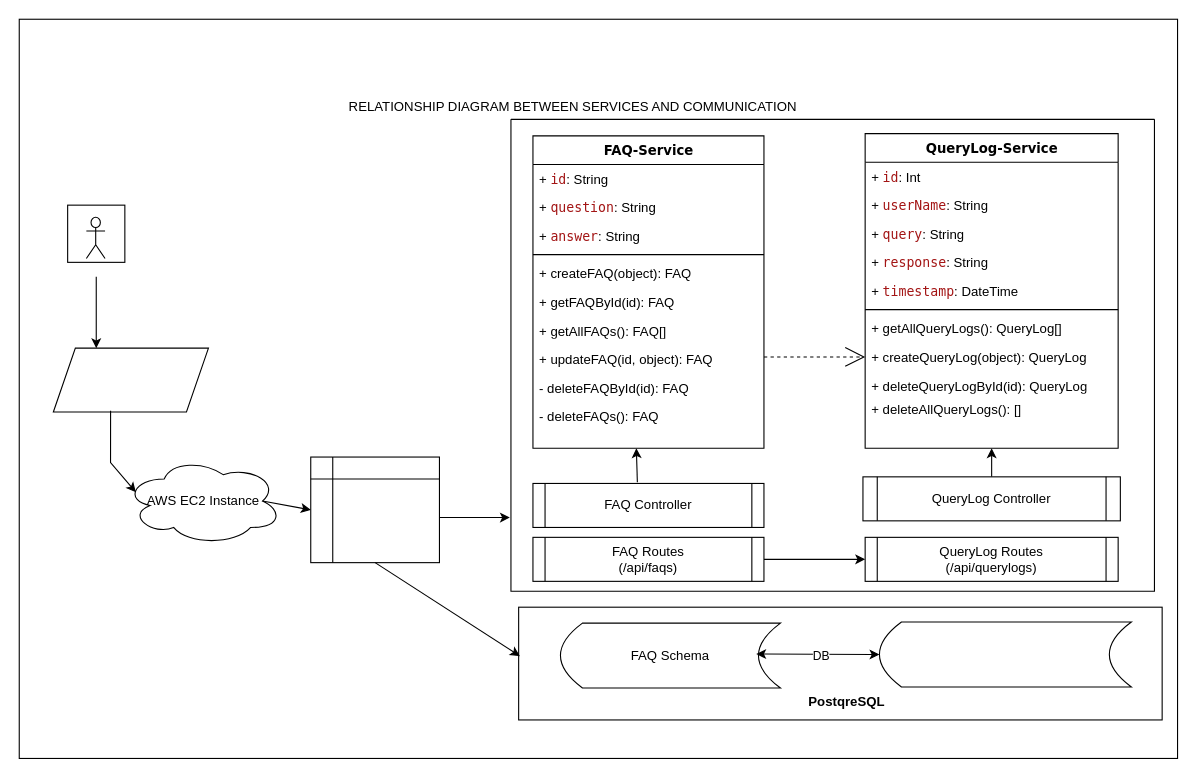
This 1197x778 diagram has some shape labels left out. The shapes that lost their labels are listed below. From the top down, each one's centre as x and y in pixels, then its label:
point 95,237: Actor
point 130,379: WhatsApp Platform
point 374,509: Ubuntu Server (Node v23.6.0) and Libraries
point 1004,654: QueryLog Schema
